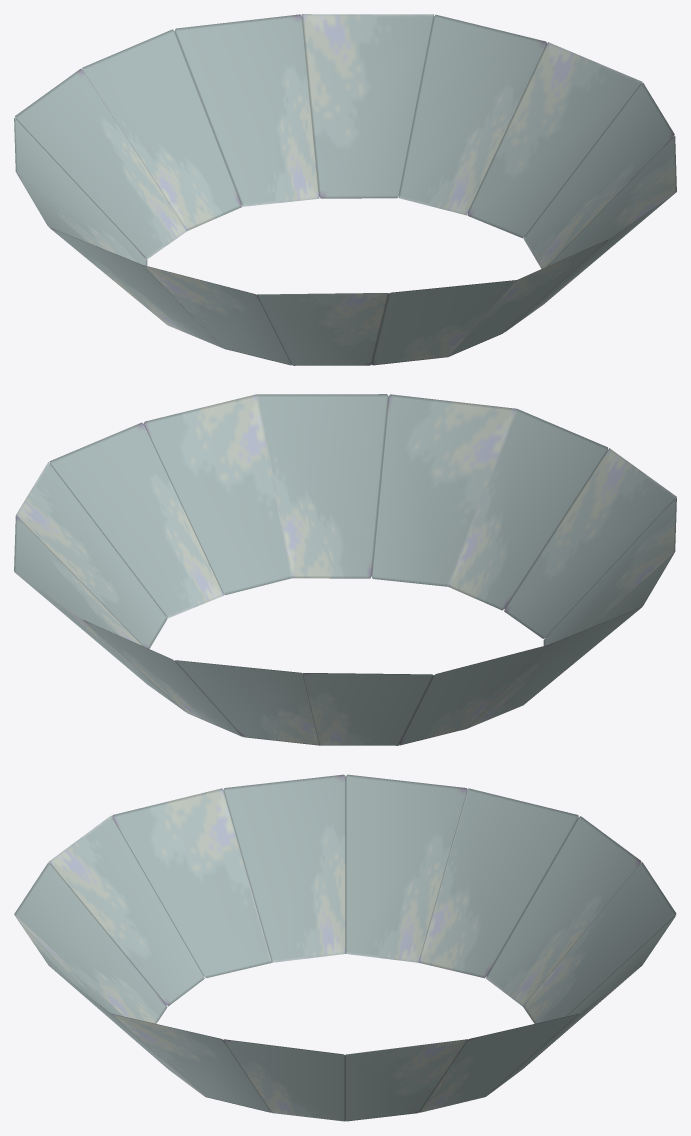
3 renders of one model, top to bottom at view 1: azimuth 30°, elevation 25°; view 2: azimuth 150°, elevation 25°; view 3: azimuth 270°, elevation 25°, orthographic. The views are drawn at different scales.
Parts seen in each view (by area): view 1: T1L4M008_27; view 2: T1L4M008_27; view 3: T1L4M008_27.
Boxes of the visible parts, x1,y1,x2,y2 form: T1L4M008_27: [14, 14, 676, 365]; T1L4M008_27: [14, 394, 676, 745]; T1L4M008_27: [14, 774, 676, 1121].
Size of the model in its own units: 2.87 by 0.5947 by 2.87.
